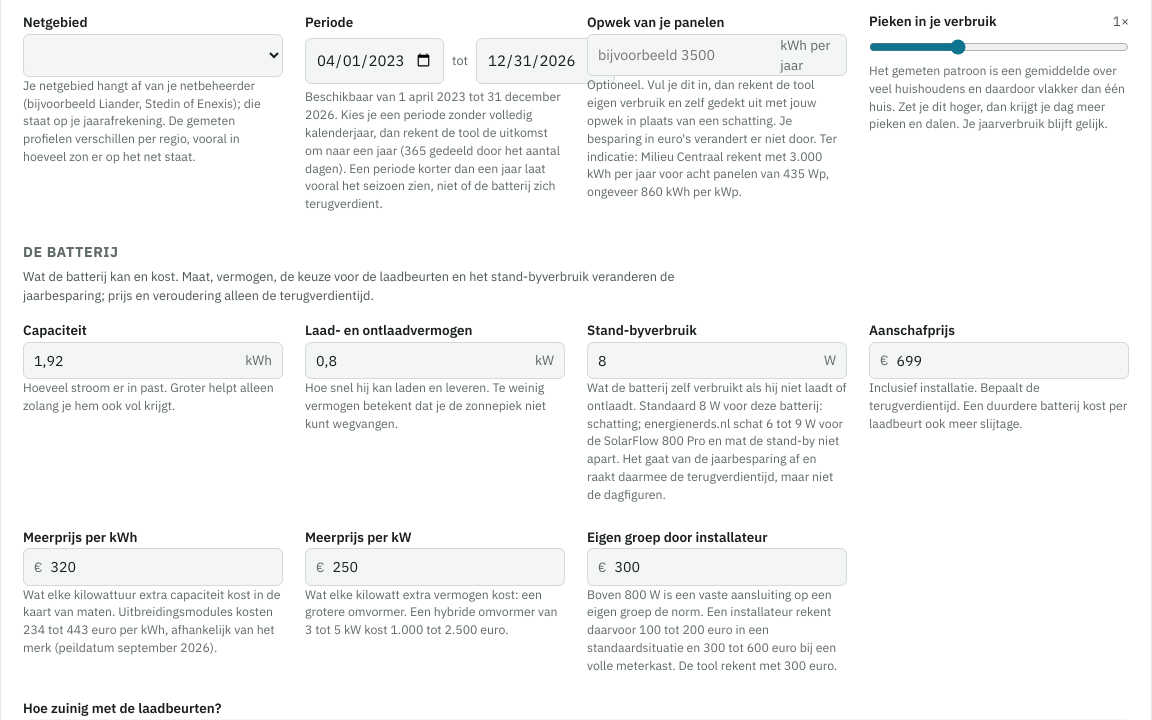
Scenario: de getalvelden › negeren onzin en zetten het veld terug
(page scrolled)
Replace the text in the field with id "inst-aanschafprijs" with "1" at (1007, 360), box [896,343,1118,378]
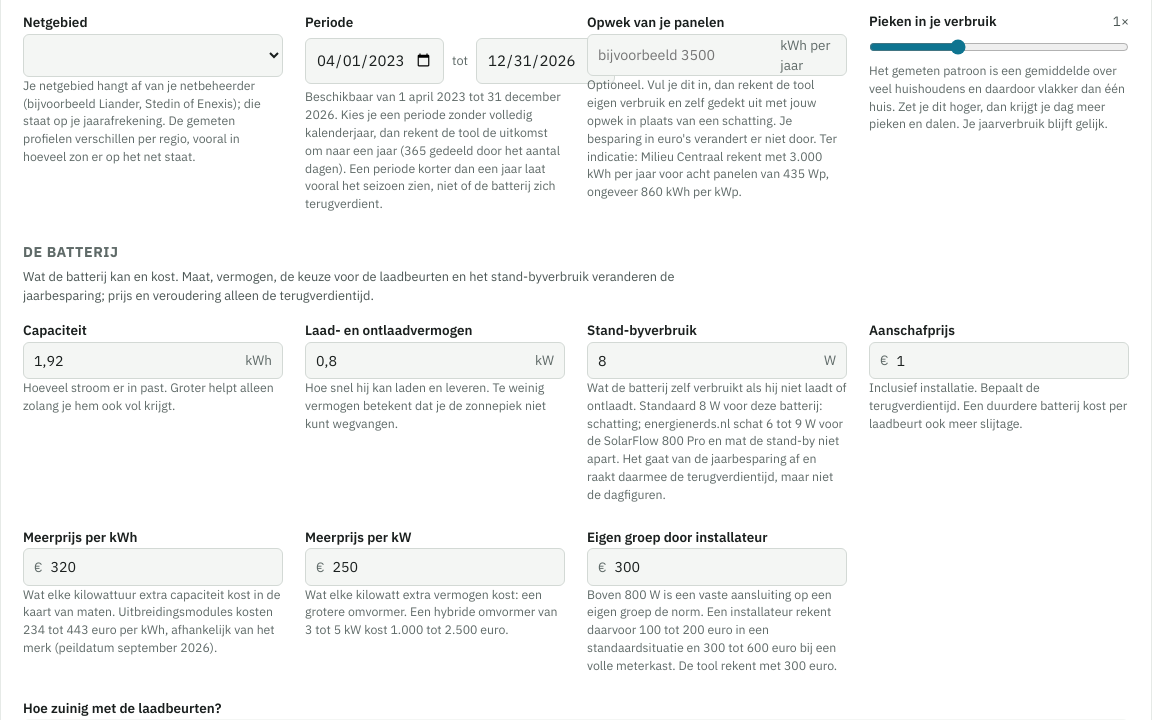
Replace the text in the field with id "inst-aanschafprijs" with "12" at (1007, 360), box [896,343,1118,378]
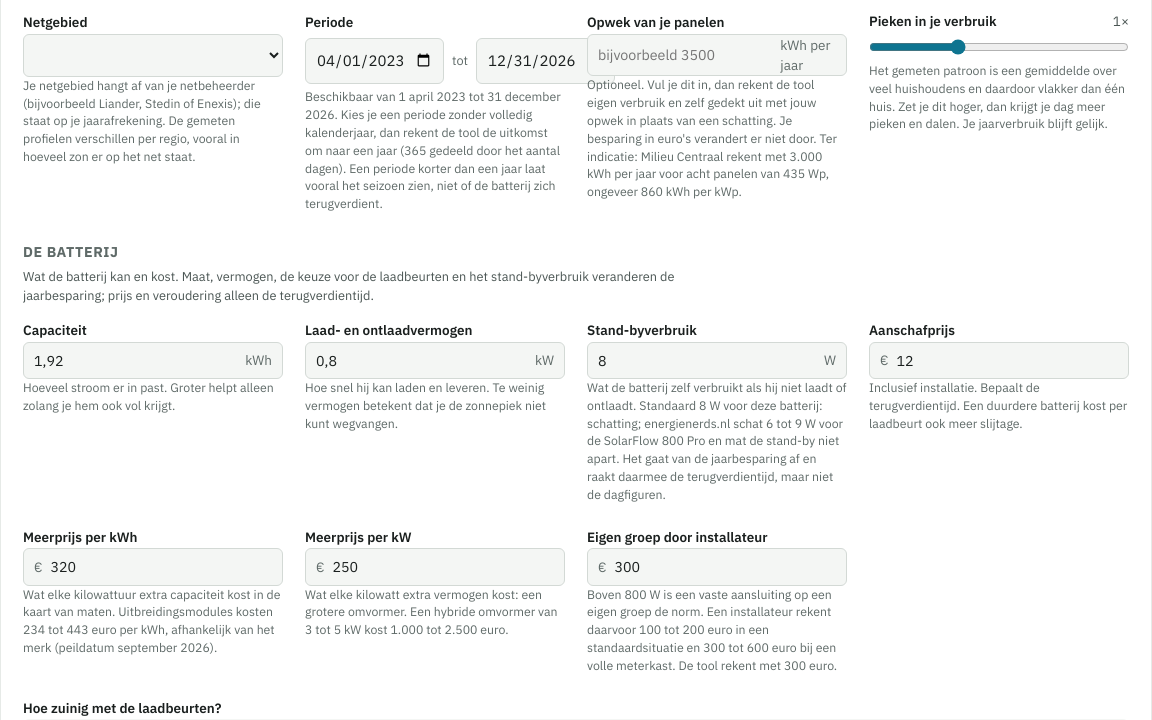
Replace the text in the field with id "inst-aanschafprijs" with "12a" at (1007, 360), box [896,343,1118,378]
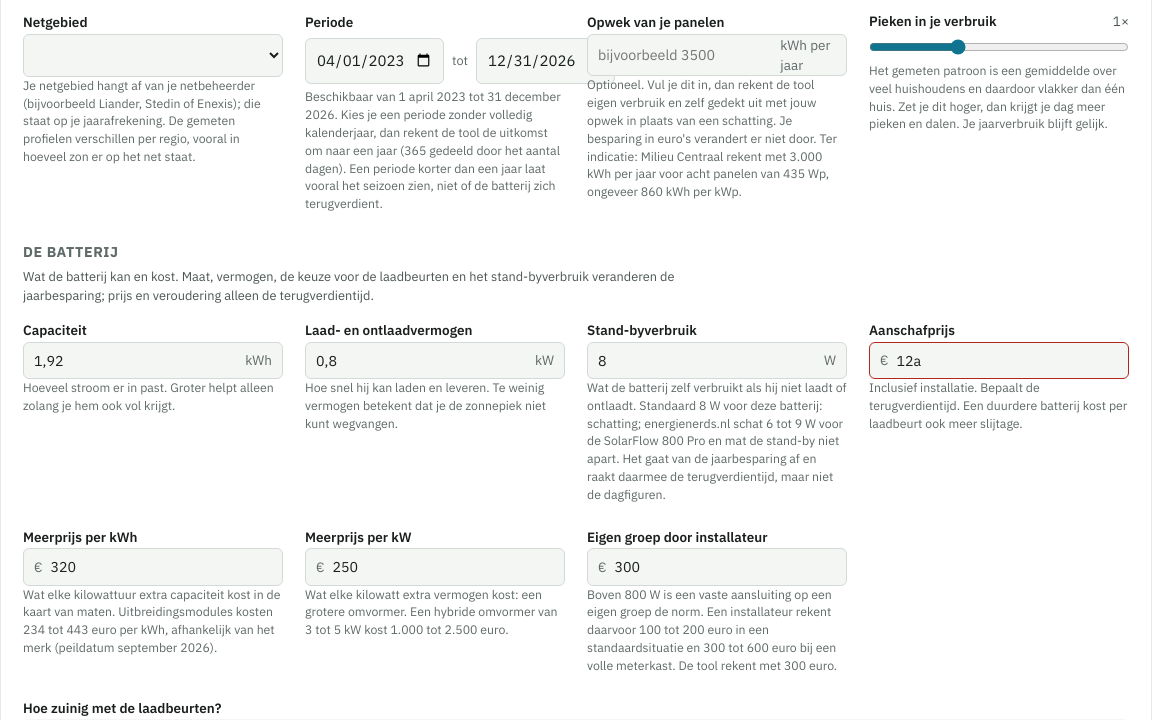
Leave the field with id "inst-aanschafprijs", box [896,343,1118,378]
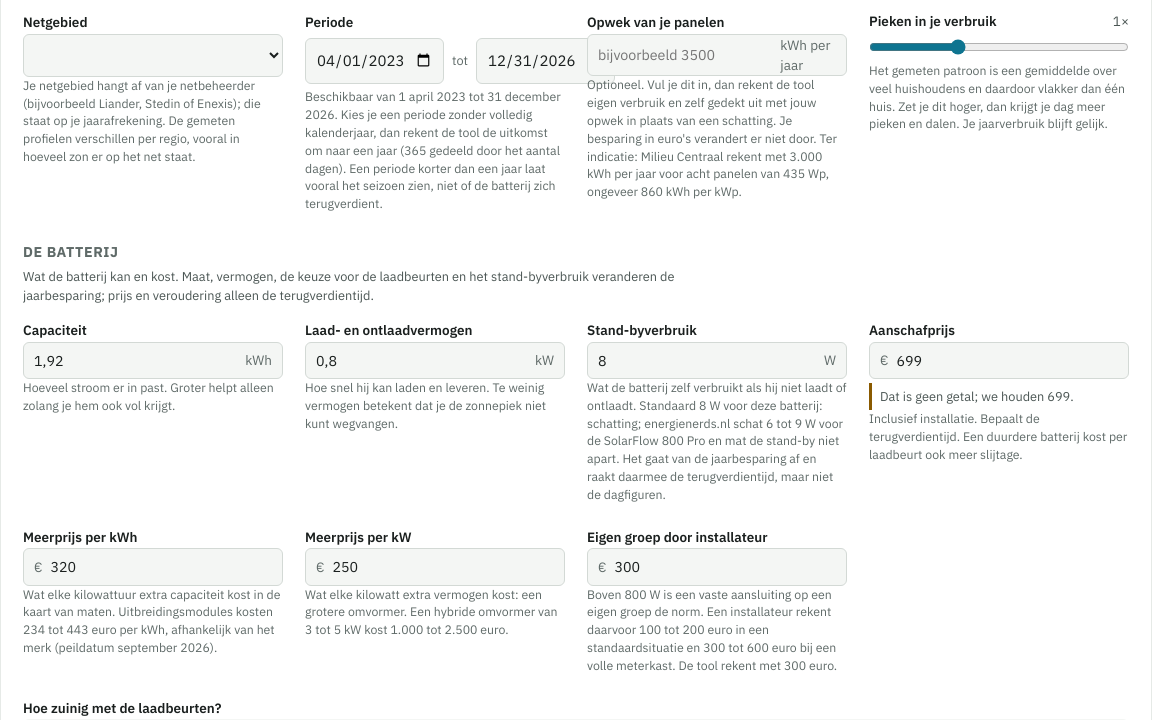
Expected: the field with id "inst-aanschafprijs" holds "699", [896,343,1118,378]
